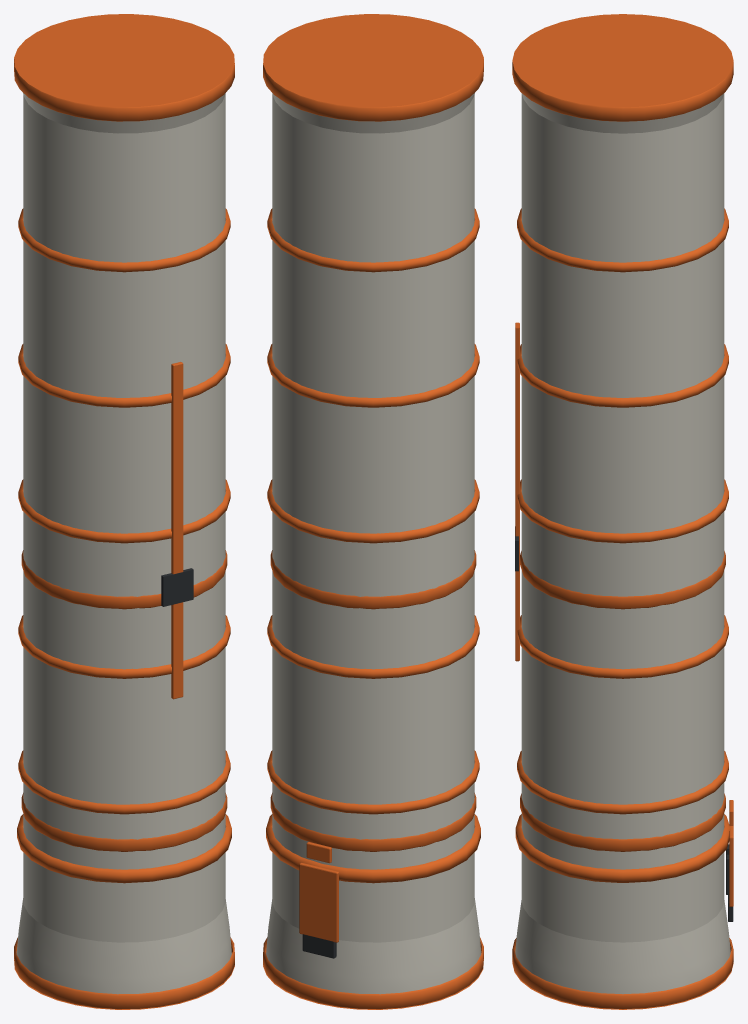
Rendered from procedural-srb-torch.glb.
The picture shows the model from 3 angles, left to right: view 1: azimuth 30°, elevation 25°; view 2: azimuth 150°, elevation 25°; view 3: azimuth 270°, elevation 25°; orthographic projection.
Visible parts, largest first — view 1: SM_SRB_Torch_AftSkirt, SM_SRB_Torch_AftInterface, SM_SRB_Torch_Clevis_L; view 2: SM_SRB_Torch_AftSkirt, SM_SRB_Torch_AftInterface, SM_SRB_Torch_Clevis_L; view 3: SM_SRB_Torch_AftSkirt, SM_SRB_Torch_AftInterface.
Part boxes in pixels (x1,y1,x2,y2): SM_SRB_Torch_AftSkirt: [16, 93, 231, 994]; SM_SRB_Torch_AftInterface: [14, 14, 234, 1009]; SM_SRB_Torch_Clevis_L: [161, 568, 193, 606]; SM_SRB_Torch_AftSkirt: [266, 93, 481, 994]; SM_SRB_Torch_AftInterface: [263, 14, 483, 1009]; SM_SRB_Torch_Clevis_L: [302, 934, 336, 958]; SM_SRB_Torch_AftSkirt: [515, 93, 730, 994]; SM_SRB_Torch_AftInterface: [512, 14, 733, 1009].
Bounding box in the file's own units: 1.2 × 5.4 × 1.2.
